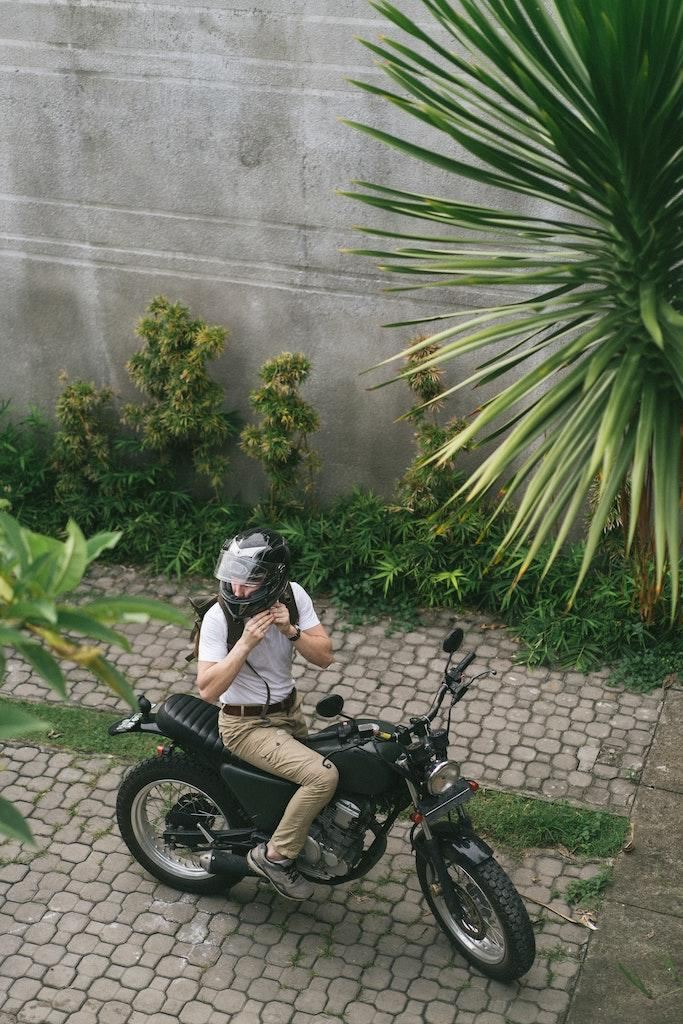helmet: (212, 526, 292, 620)
